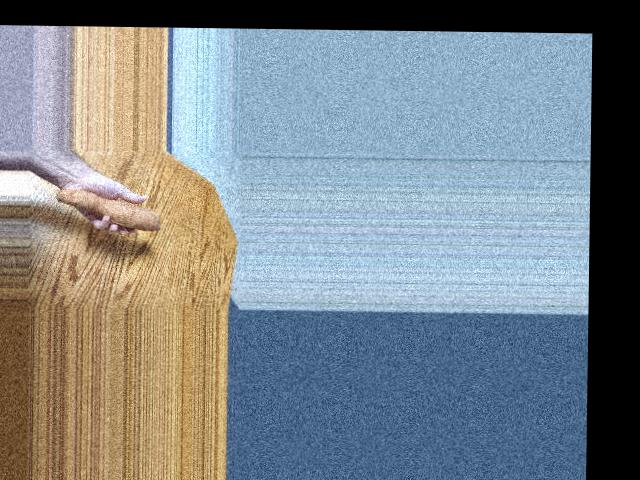sweet_potato: (44, 189, 162, 235)
